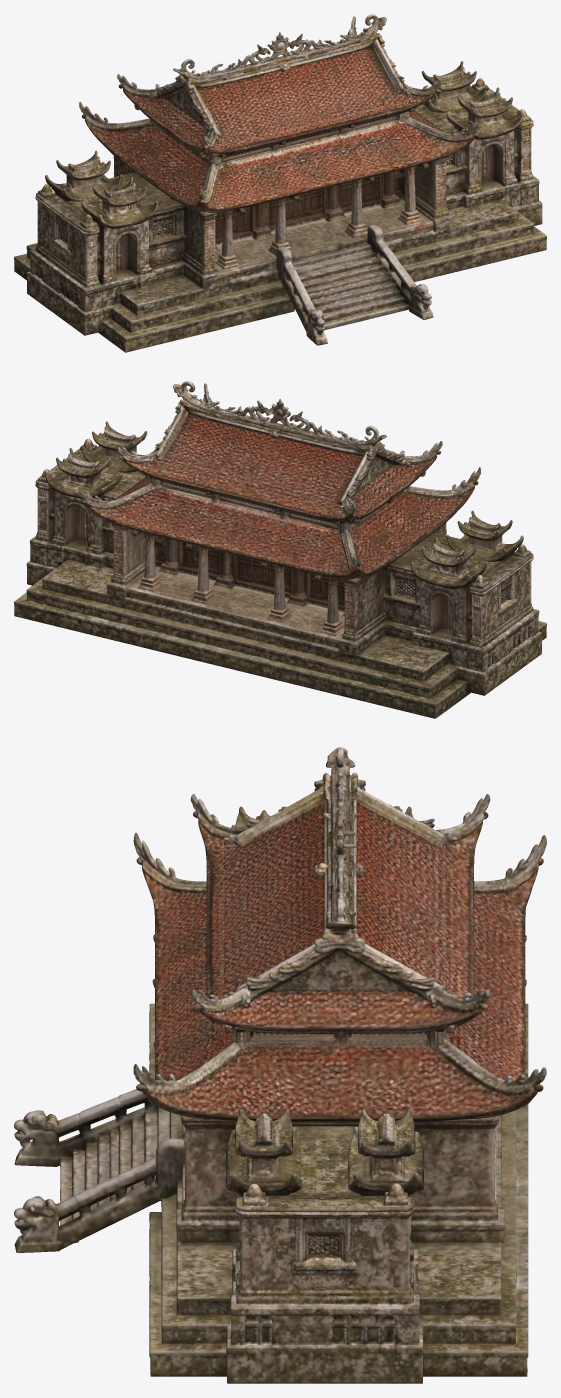
The model's file is ancient_chinese_temple_3d_model_LOD1.glb.
3 renders of one model, top to bottom at view 1: azimuth 30°, elevation 25°; view 2: azimuth 150°, elevation 25°; view 3: azimuth 270°, elevation 25°, orthographic. The views are drawn at different scales.
Parts seen in each view (by area): view 1: tripo_node_1a42d841-7aec-4bb0-959d-b83720bb24be; view 2: tripo_node_1a42d841-7aec-4bb0-959d-b83720bb24be; view 3: tripo_node_1a42d841-7aec-4bb0-959d-b83720bb24be.
Part boxes in pixels (x1,y1,x2,y2): tripo_node_1a42d841-7aec-4bb0-959d-b83720bb24be: (14, 14, 546, 352); tripo_node_1a42d841-7aec-4bb0-959d-b83720bb24be: (14, 381, 546, 718); tripo_node_1a42d841-7aec-4bb0-959d-b83720bb24be: (14, 747, 546, 1383).
Size of the model in its own units: 0.9811 by 0.4698 by 0.5831.
Materials: 1 (1 with a texture image).
